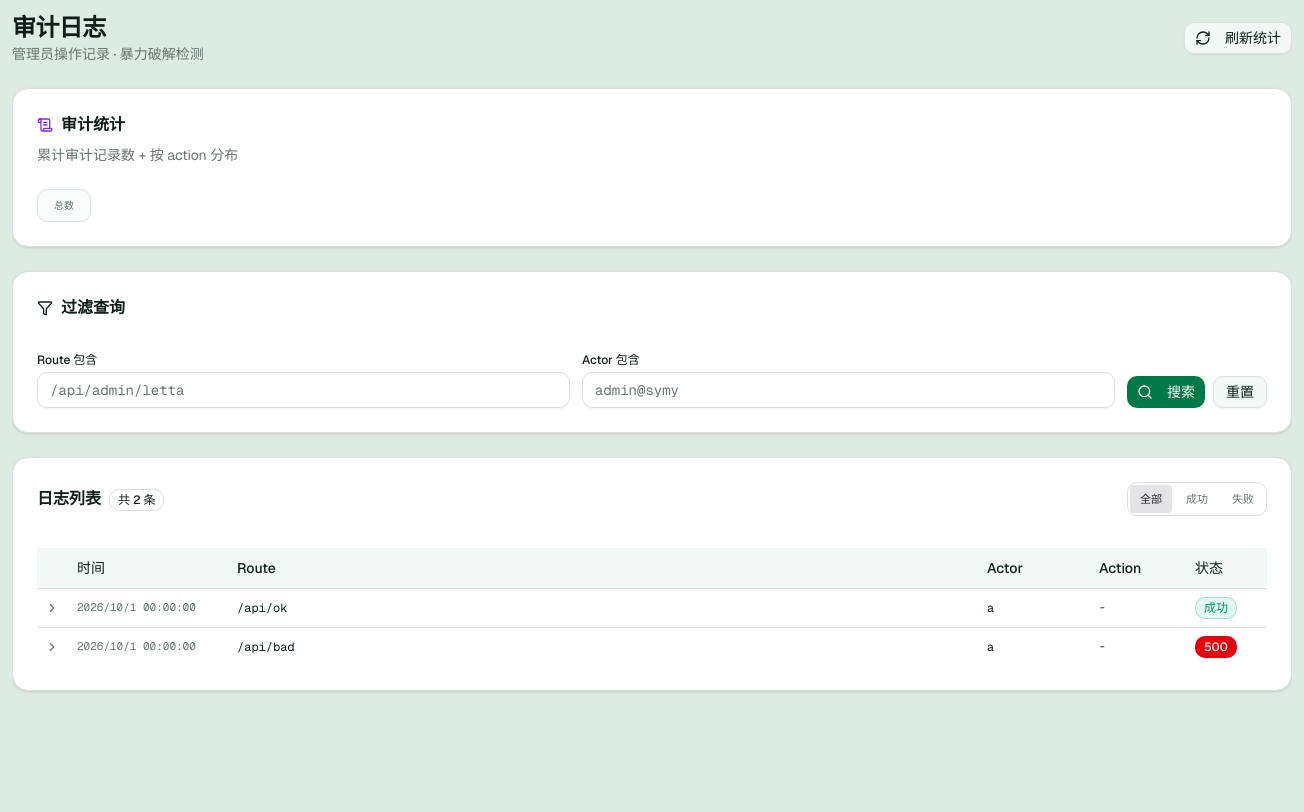
AdminAuditPage › status 前端过滤: failed 档只显示失败行
Expected: the text "/api/ok" is shown, 229,588 -> 979,627
// 切 failed 档
What coordinates should you click on to do the following:
click the button "失败"
I would click on:
 (1243, 499)
Its box is 1222,485 -> 1264,513.
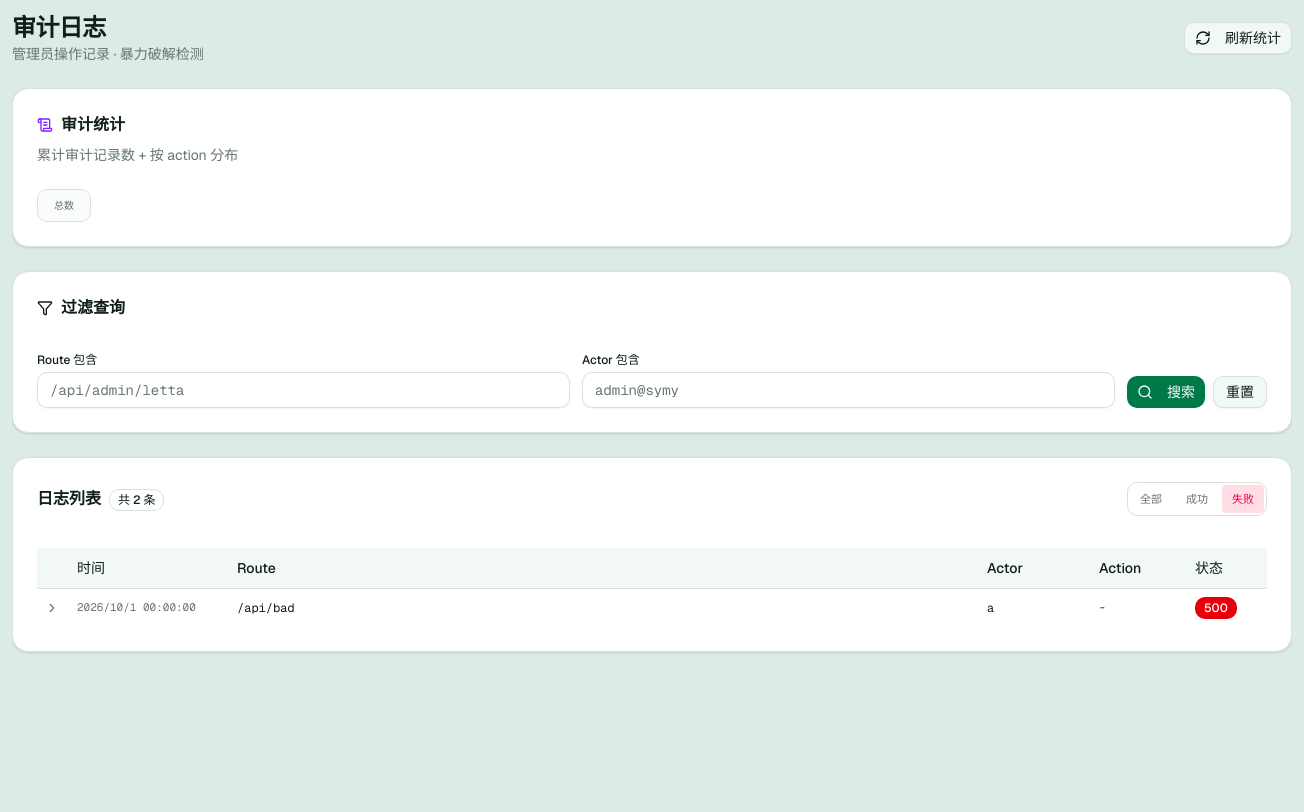
Expected: the text "/api/bad" is shown, 229,588 -> 979,626
Expected: the text "/api/ok" is gone
